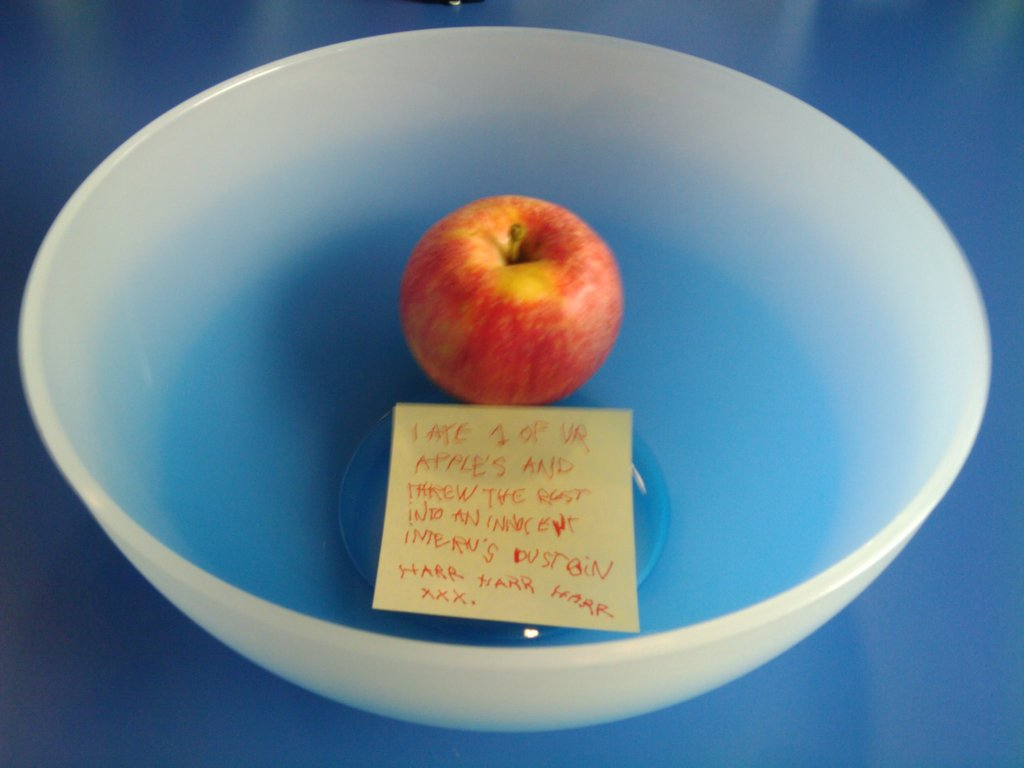Apple: (387, 177, 626, 398)
